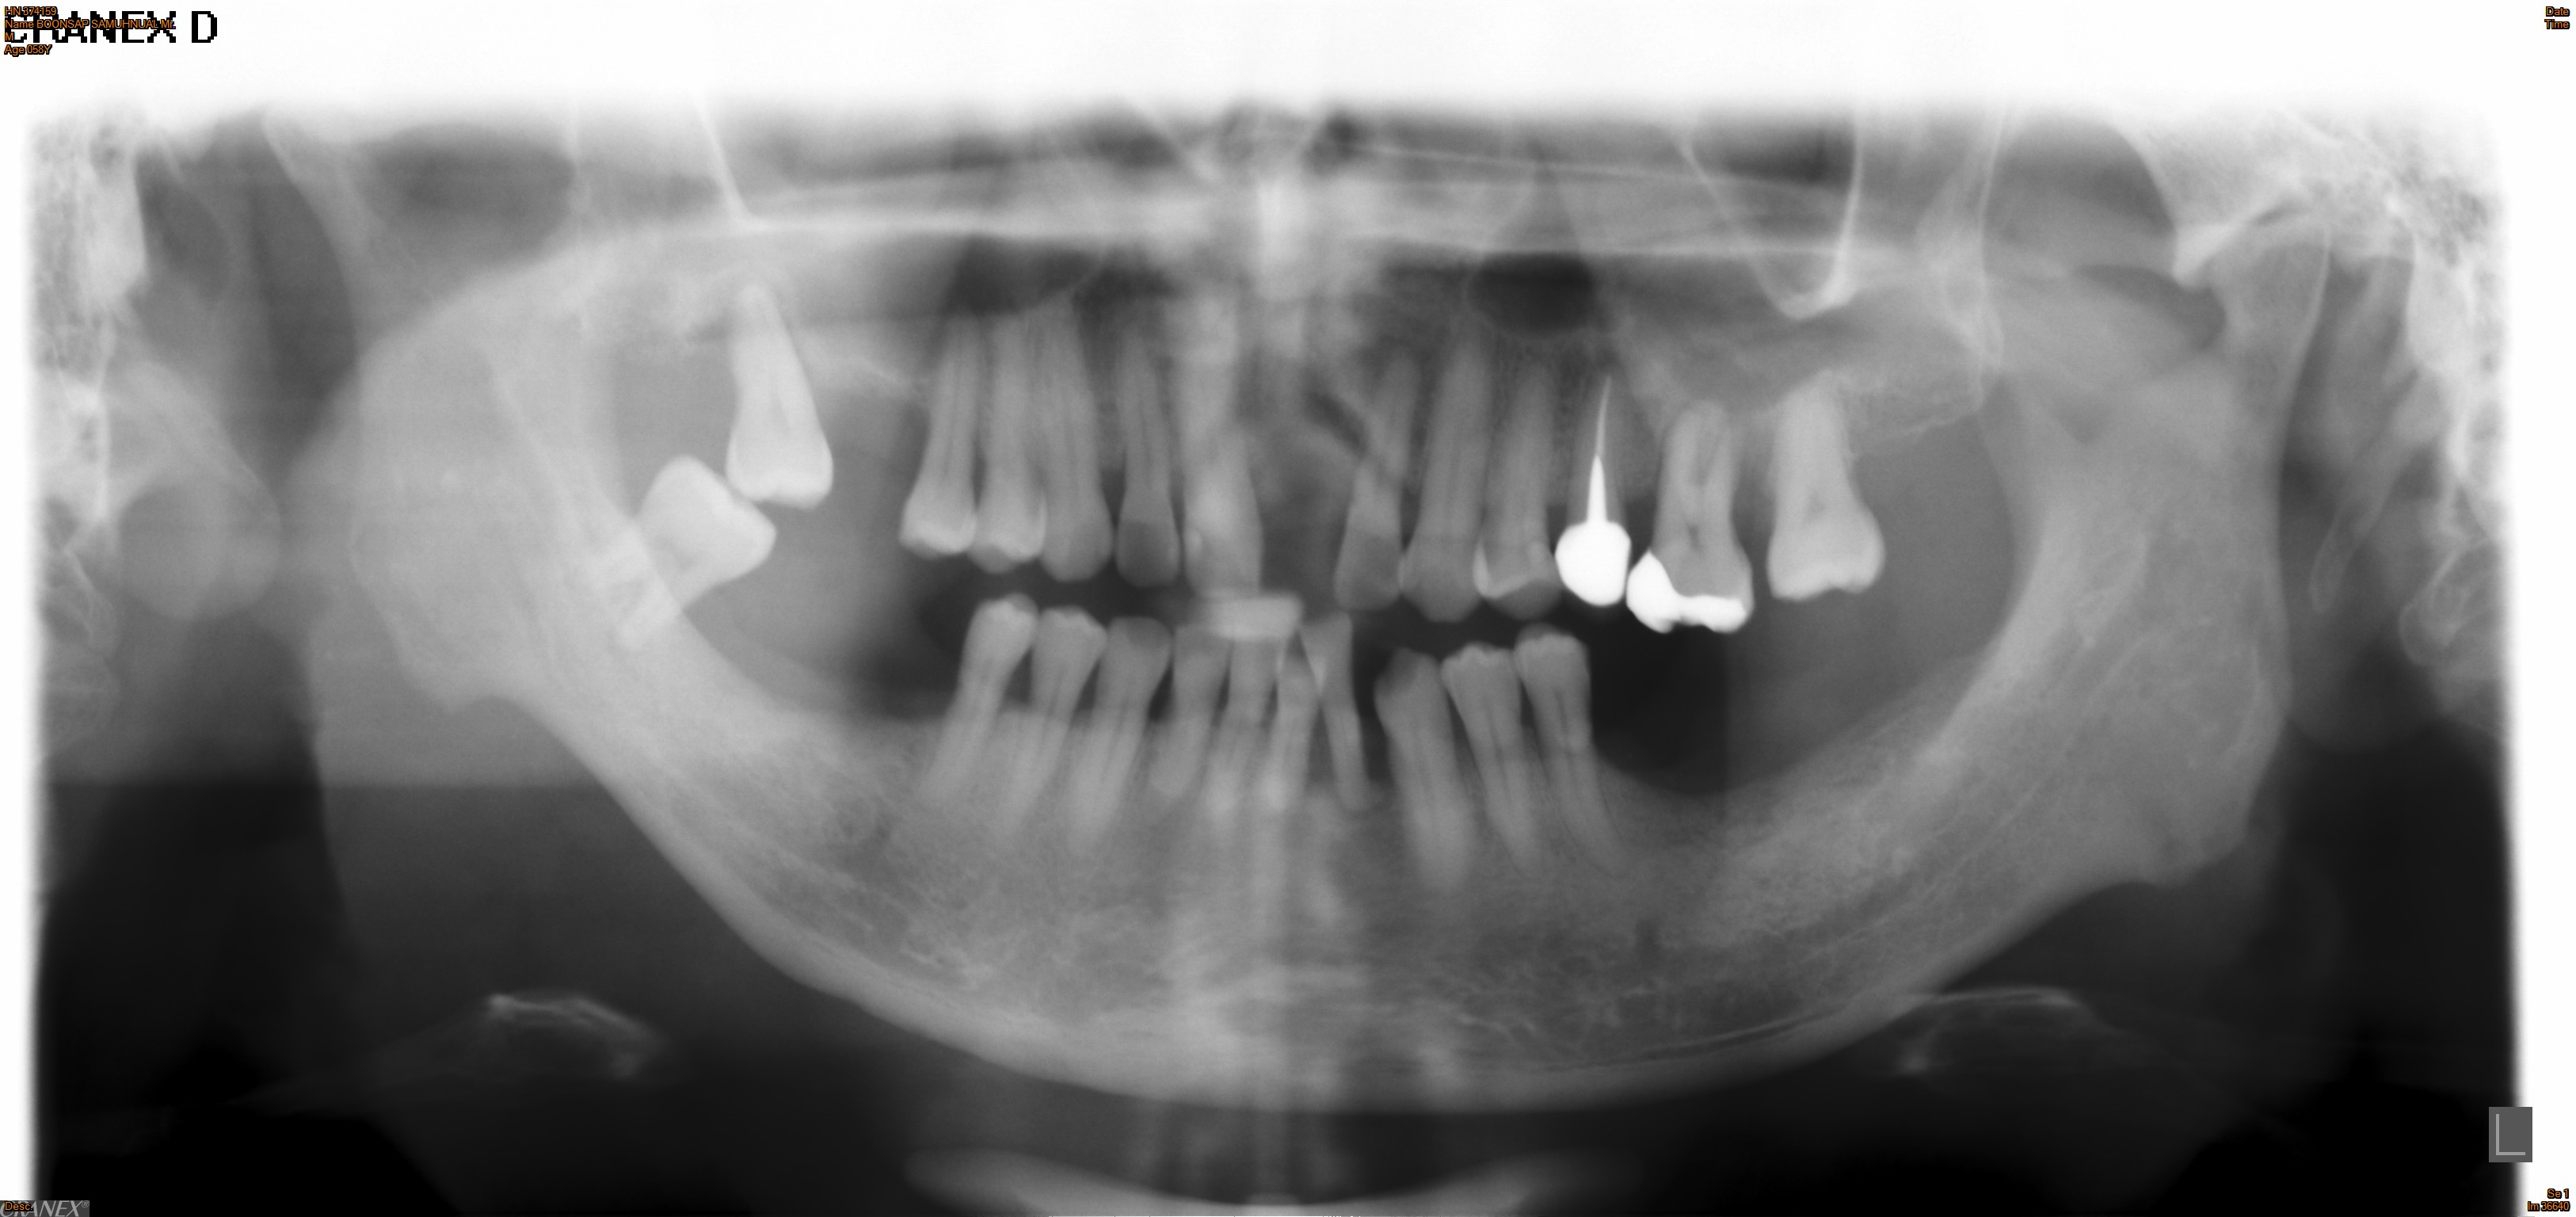periodontitis: (1621, 394, 1769, 645), (905, 590, 1051, 836), (702, 274, 841, 521), (1502, 626, 1635, 880), (892, 294, 989, 573), (1280, 606, 1382, 826)
